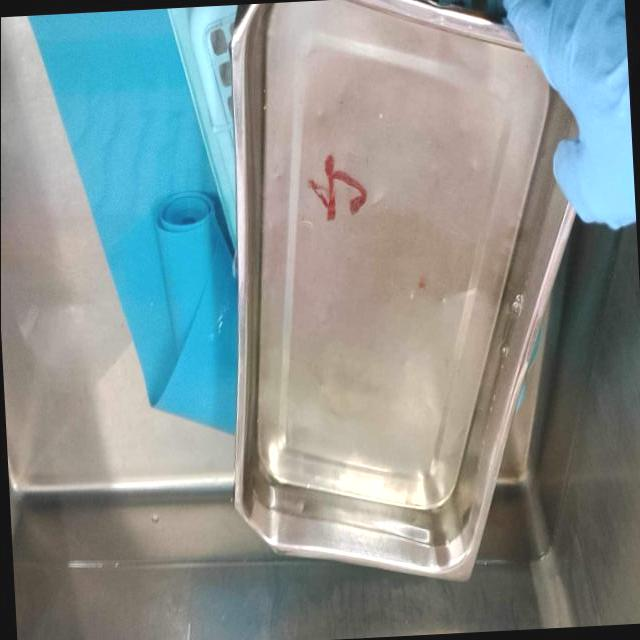Infectious: (500, 0, 636, 230)
Pathological: (229, 1, 575, 582)
